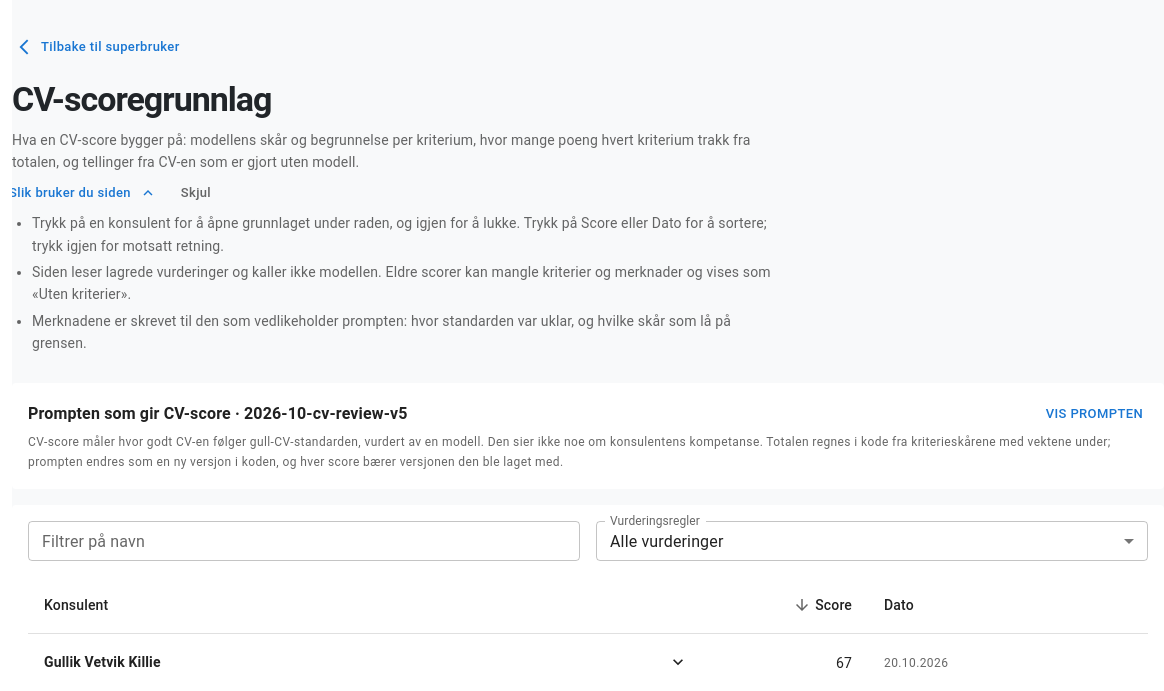
Test: CvScoreBasisPage › filters by scoring rules separately from CV freshness without requesting a new review
Check: the text "Gullik Vetvik Killie" is shown, box [44,652,161,672]
Press the mouse on the dropdown named "Vurderingsregler": point(667, 541) [610,532,724,551]
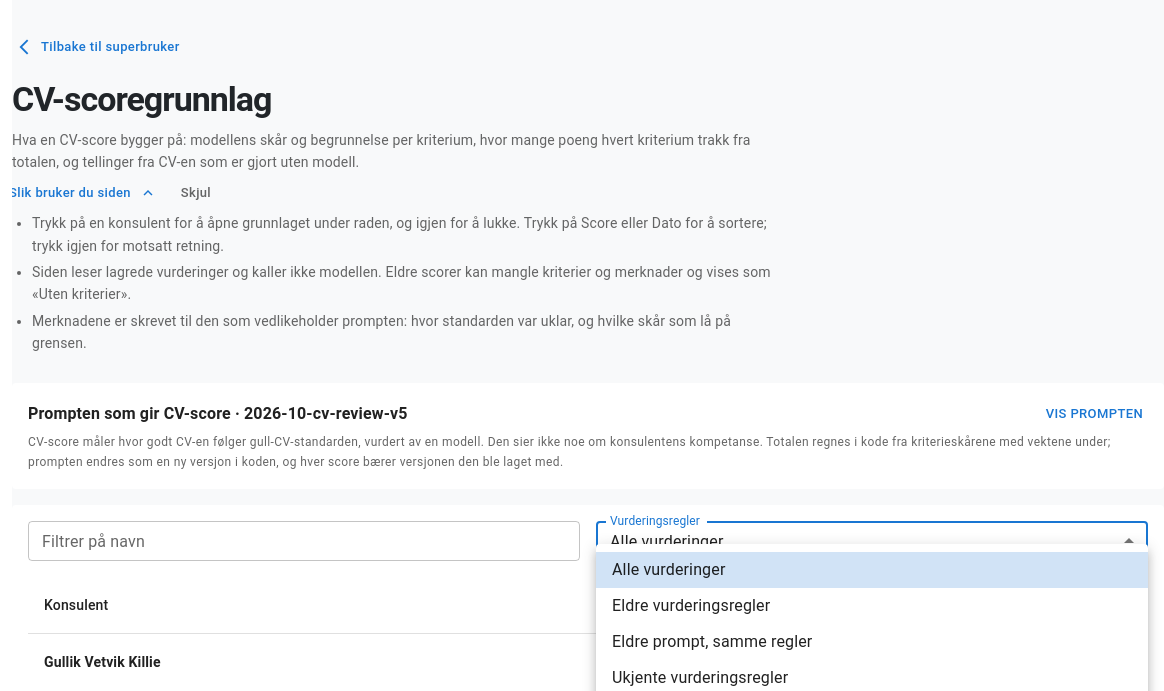
Click the option "Eldre vurderingsregler": point(691, 606) [612,596,770,615]
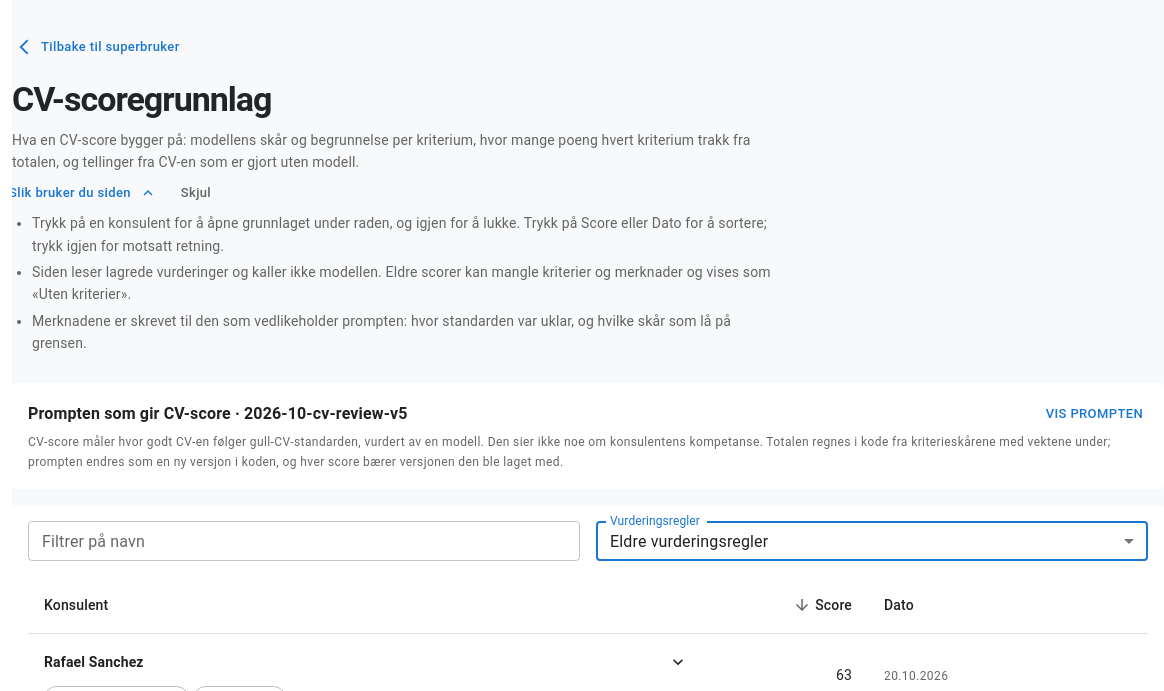
Check: the text "Rafael Sanchez" is shown, box [44,652,144,672]
Check: the button "Gullik Vetvik Killie" is gone
